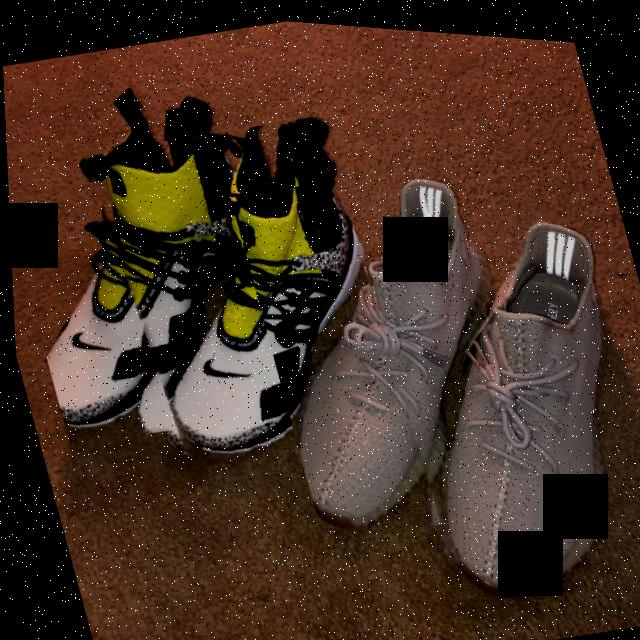shoe: (226, 138, 557, 554), (81, 94, 418, 484), (2, 55, 310, 460), (354, 184, 640, 616)
